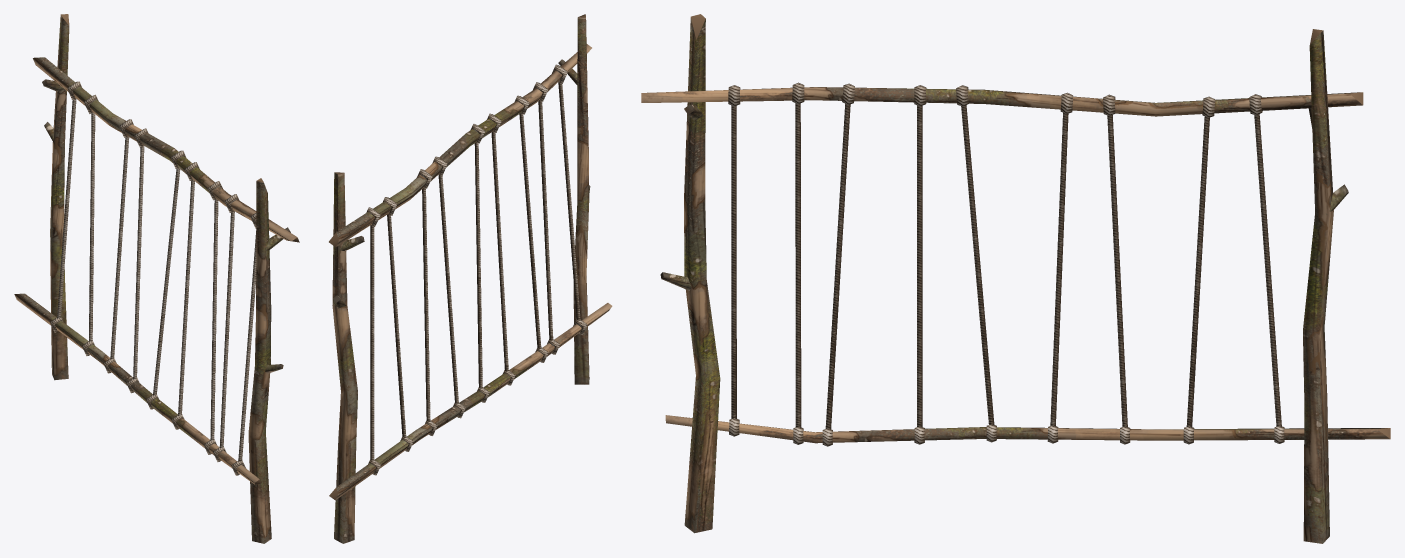
Rendered from trellis04.fbx.
3 renders of one model, left to right at view 1: azimuth 30°, elevation 25°; view 2: azimuth 150°, elevation 25°; view 3: azimuth 270°, elevation 25°, orthographic. The views are drawn at different scales.
Parts seen in each view (by area): view 1: trellis04; view 2: trellis04; view 3: trellis04.
Part boxes in pixels (x1,y1,x2,y2): trellis04: (14,14,299,543); trellis04: (329,14,612,543); trellis04: (641,14,1390,543).
Bounding box in the file's own units: 22.61 × 177 × 235.
